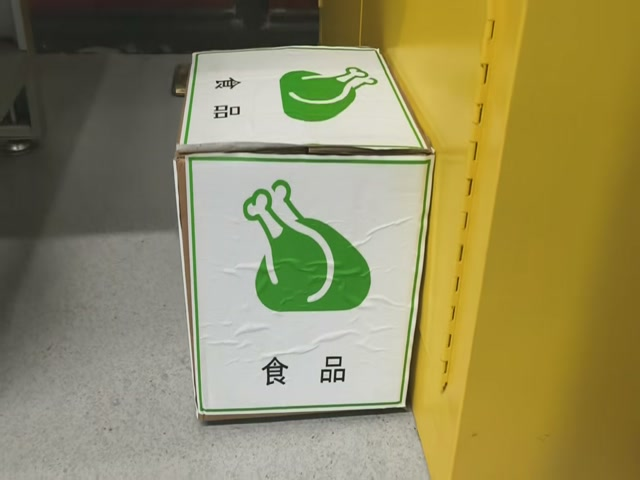Cube_food: (177, 50, 429, 158)
